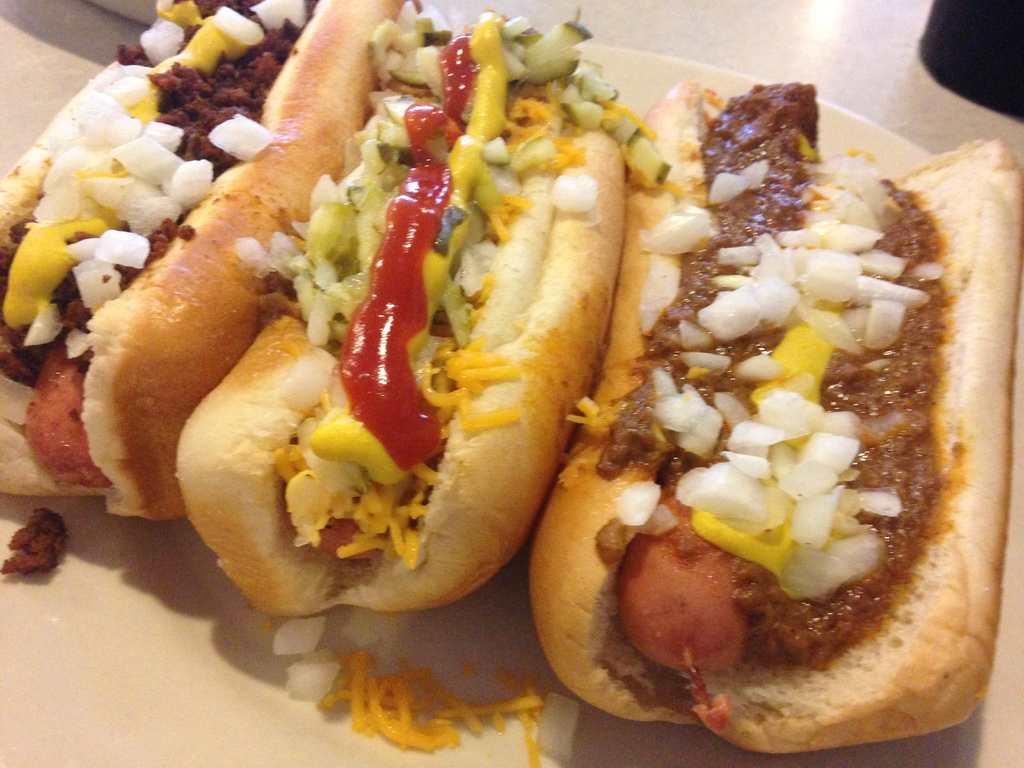hot_dog: (527, 78, 1023, 758), (166, 0, 640, 648), (0, 0, 422, 517)
